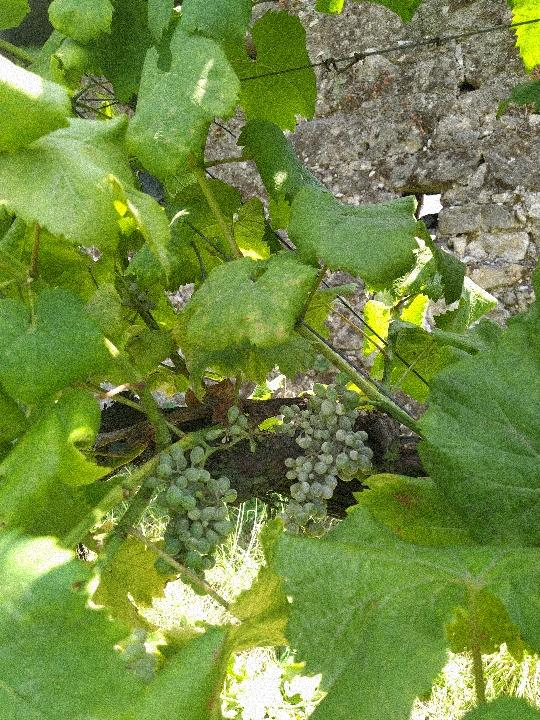grape: (277, 384, 378, 535), (141, 443, 238, 598)
